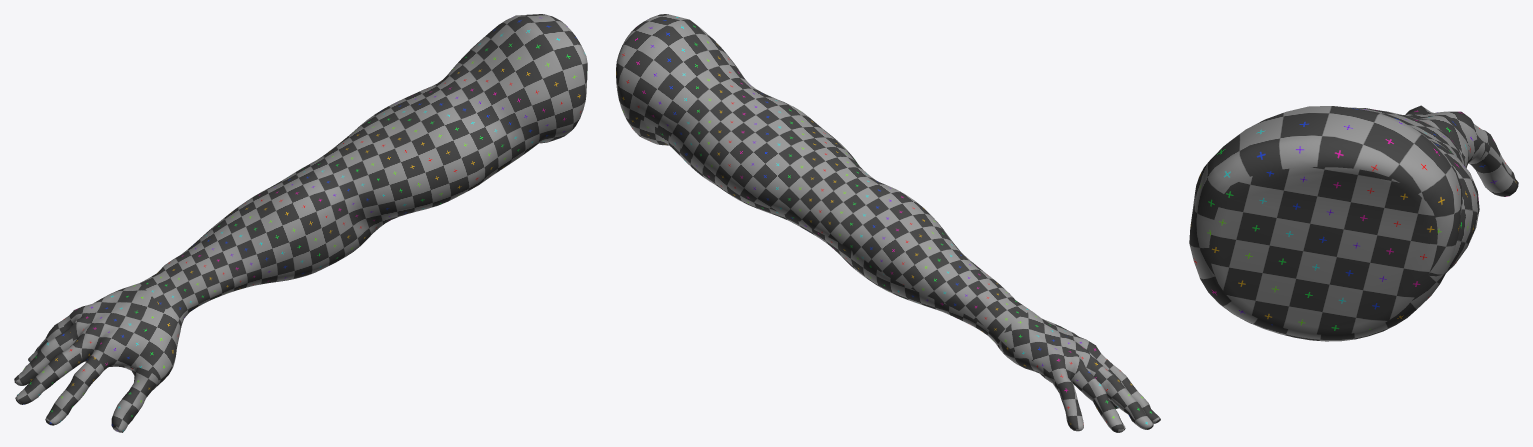
Rendered from arm_right.glb.
3 views of the same model, side by side, from view 1: azimuth 30°, elevation 25°; view 2: azimuth 150°, elevation 25°; view 3: azimuth 270°, elevation 25° (orthographic). The views are drawn at different scales.
Visible parts, largest first — view 1: FinalBaseMesh.002; view 2: FinalBaseMesh.002; view 3: FinalBaseMesh.002.
Part boxes in pixels (x1,y1,x2,y2): FinalBaseMesh.002: (14, 14, 587, 432); FinalBaseMesh.002: (616, 14, 1160, 432); FinalBaseMesh.002: (1189, 105, 1518, 341).
Bounding box in the file's own units: 8.01 × 4.18 × 2.15.
1 material, 1 textured.
